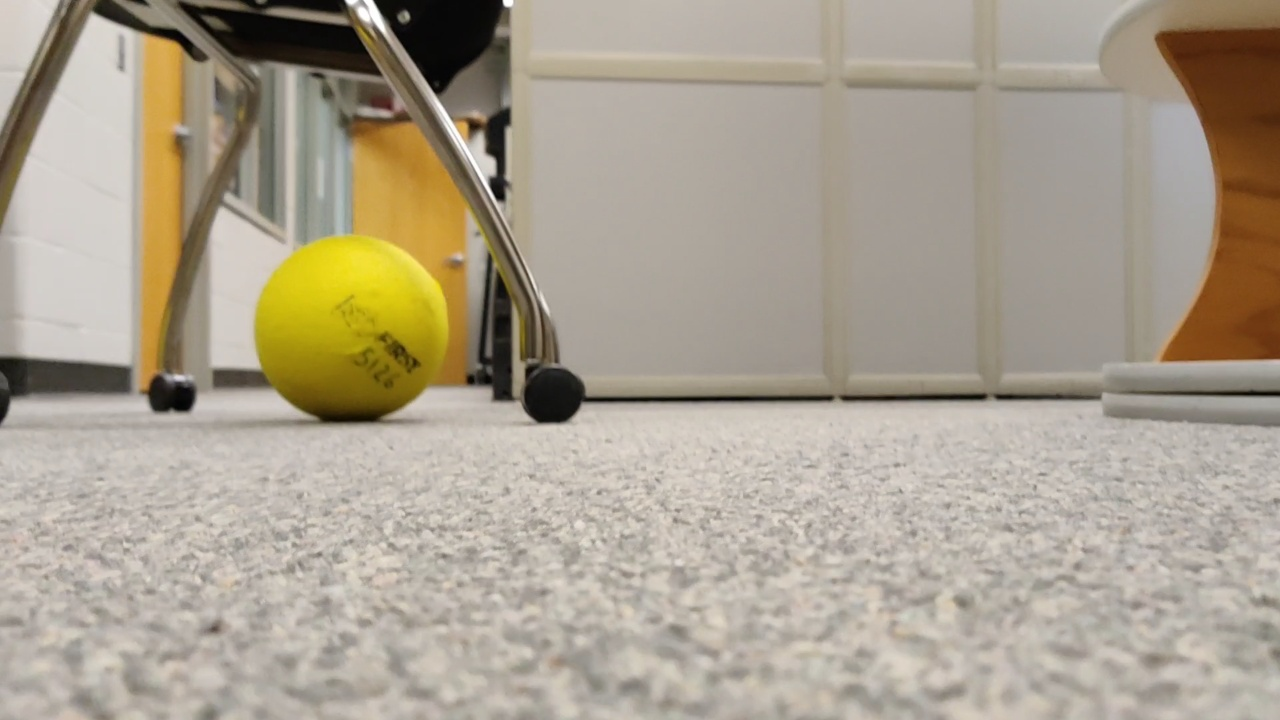Ball: (246, 228, 491, 494)
